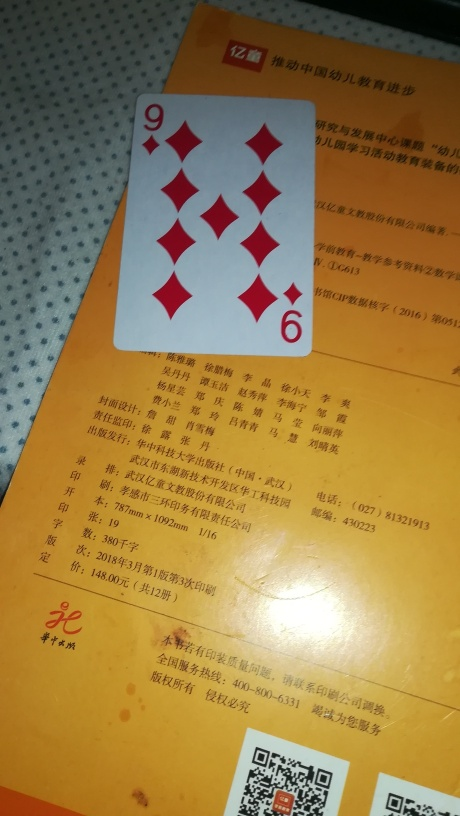fk 9: (114, 93, 316, 357)
